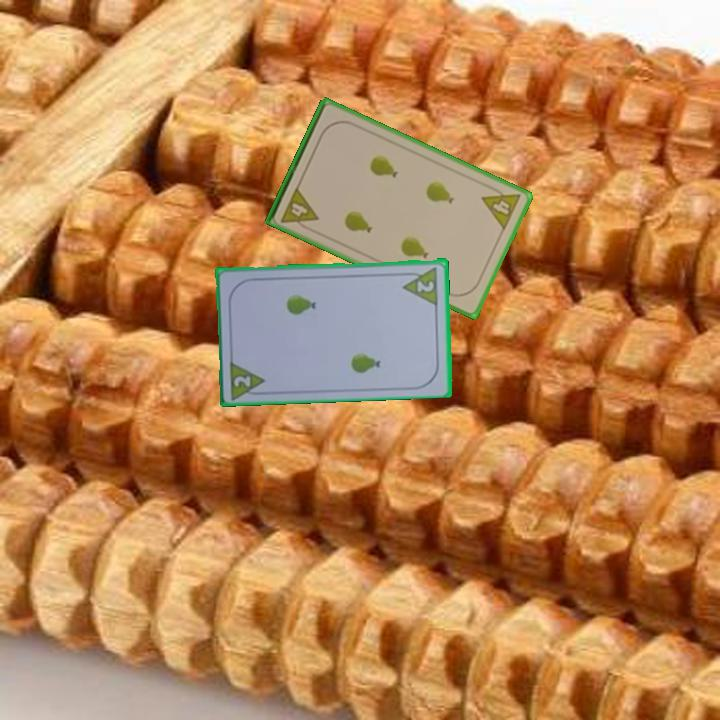2p: (226, 356, 269, 401), (399, 263, 441, 307)
4p: (478, 181, 524, 233), (277, 183, 321, 234)
